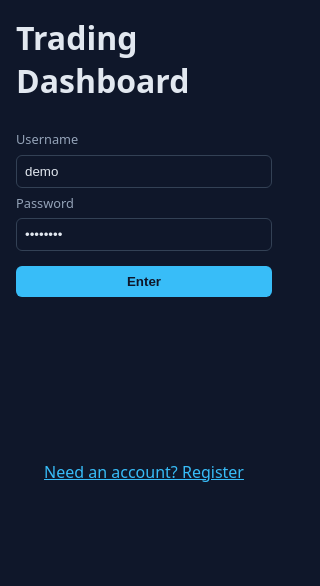
Test: Auth › starts on login and toggles to register and back
Expected: the heading "Trading Dashboard" is shown, [16,16,190,102]
Click the button "Need an account? Register": (144,472) [44,461,244,483]
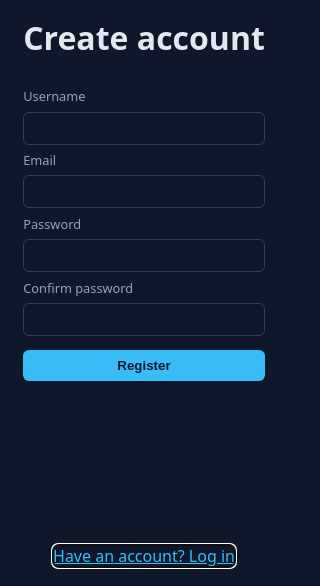
Expected: the heading "Create account" is shown, [23,16,265,59]
Click the button "Have an account? Log in": (144,556) [53,545,235,567]
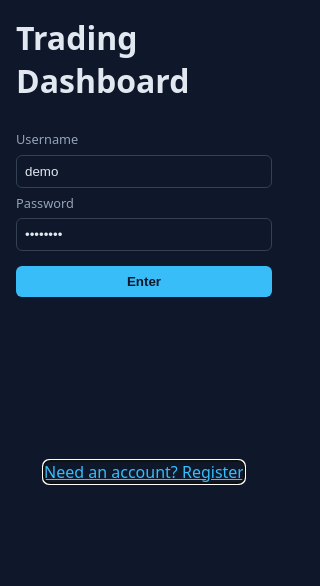
Expected: the heading "Trading Dashboard" is shown, [16,16,190,102]
